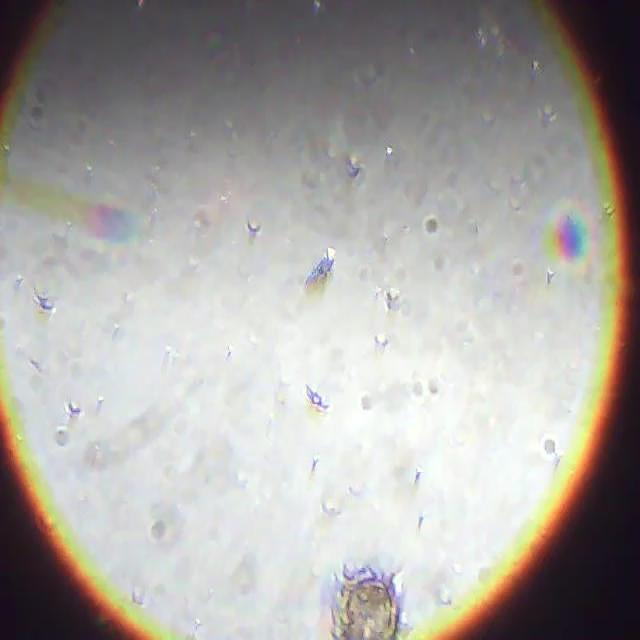alexandrium: (325, 555, 411, 640)
